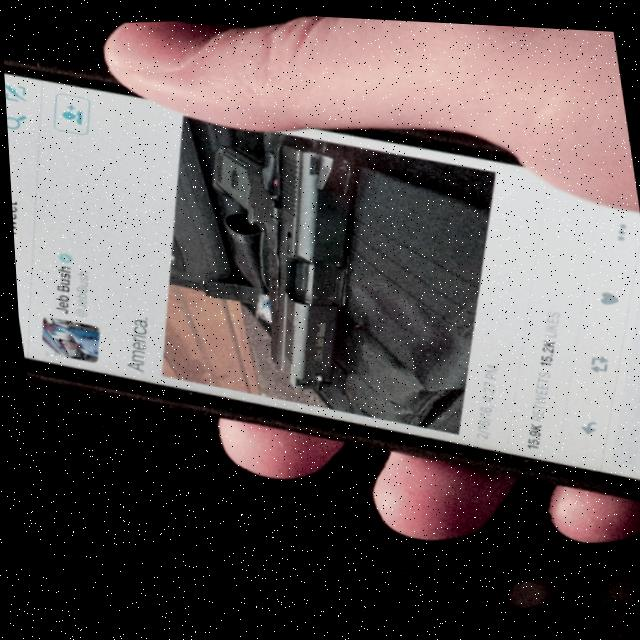pistol: (197, 124, 392, 401)
